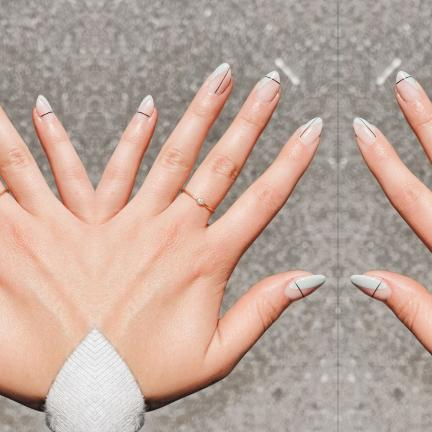Nail: (284, 274, 325, 301), (350, 274, 391, 301), (395, 71, 419, 103), (256, 71, 279, 103), (208, 63, 231, 95), (297, 118, 322, 145), (353, 118, 378, 145), (136, 94, 153, 123), (35, 94, 52, 123)
